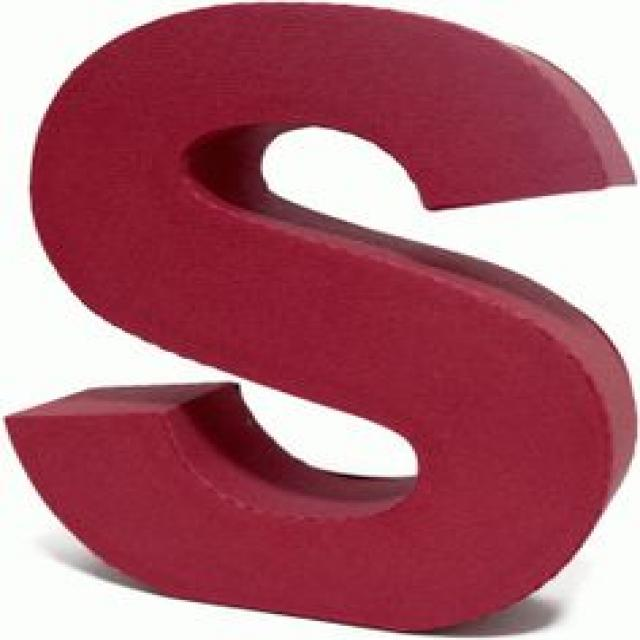S: (11, 4, 639, 640)
